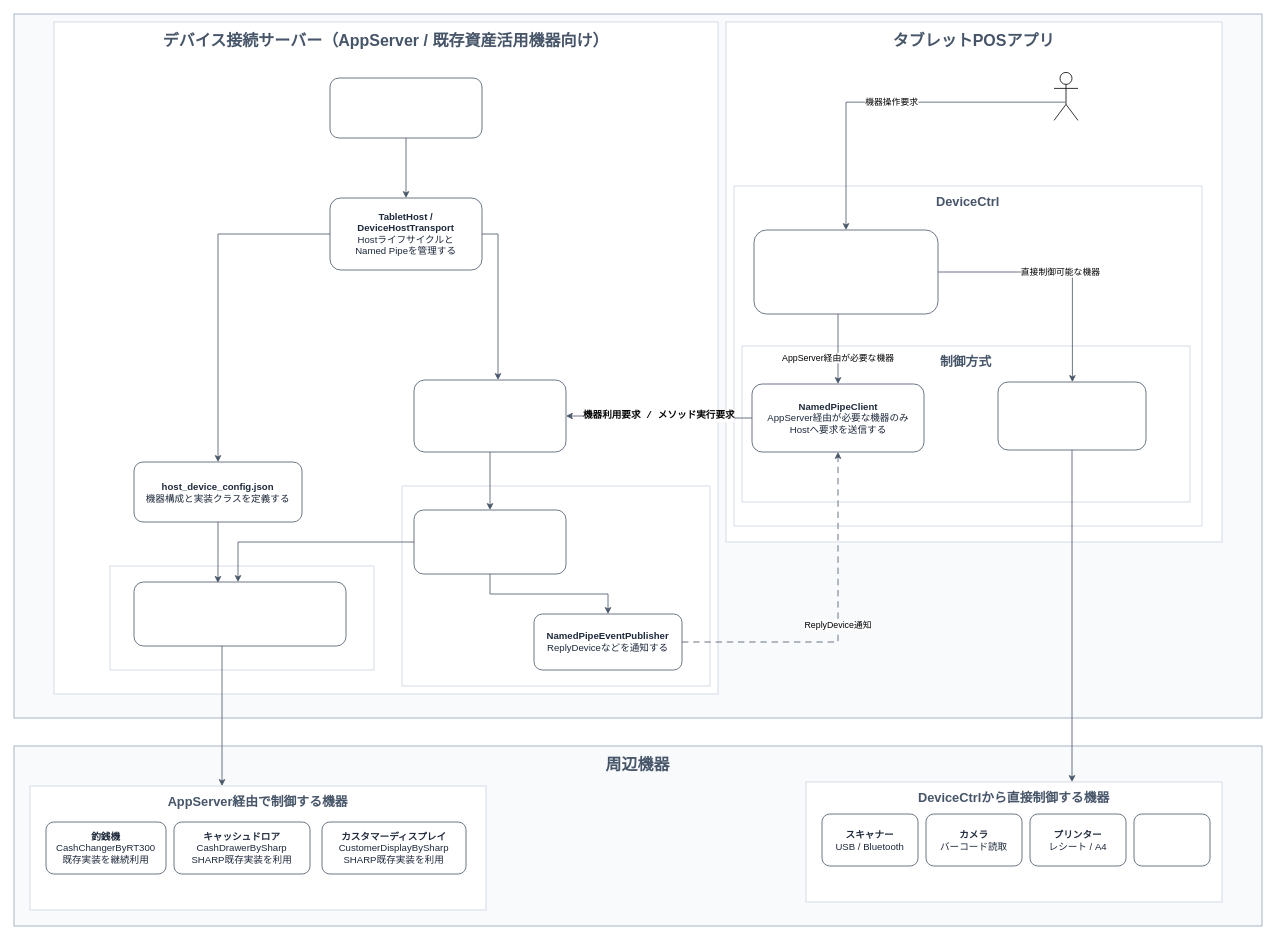
Some shapes in this 1276 by 940 pixel diagram are drawn without their labels. The shapes that lost their labels are listed below. From the top down, each one's centre as x and y in pixels, then its label:
At (x=405, y=107): "AppServer.exe Hostの起動・停止を管理する".
At (x=1065, y=96): "Actor".
At (x=845, y=271): "DeviceManager / Config / Factory 設定を読み込み 機器ごとの制御方式を決定する".
At (x=489, y=415): "NamedPipeCommandServer TabletPos.Host.Commandで 要求を受け付ける".
At (x=1071, y=415): "直接制御 AppServerを経由せず DeviceCtrl内で制御する".
At (x=489, y=541): "CommandMapper / Handler 要求を内部処理へ変換し 機器操作を実行する".
At (x=239, y=613): "TabletDeviceManager 機器IDとメソッドIDを解決し 対象機器を呼び出す".
At (x=1171, y=839): "決済端末 決済連携".
